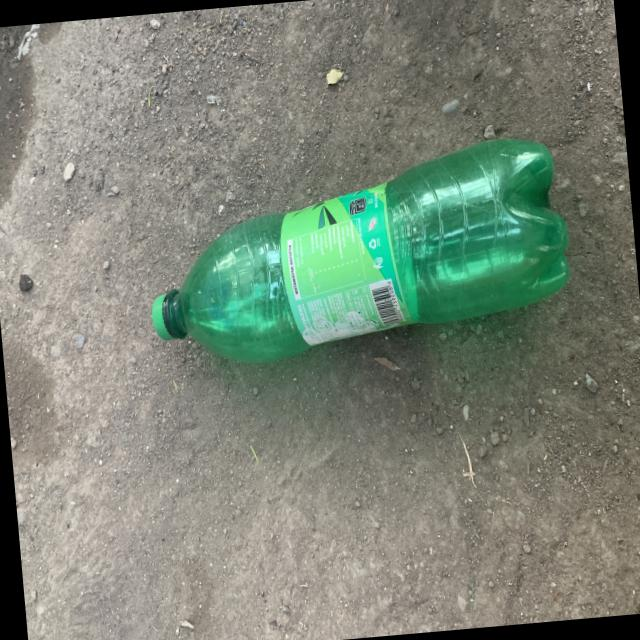Bottle: (151, 139, 567, 362)
